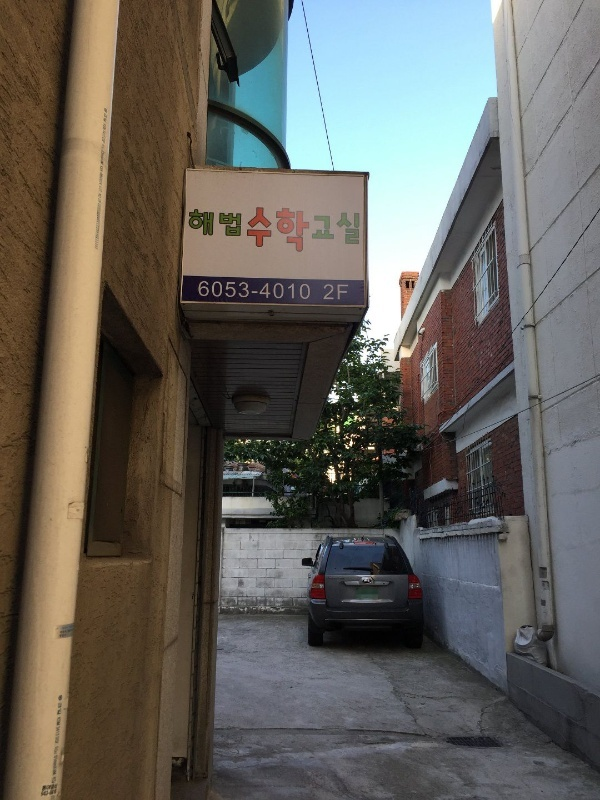text: (257, 206, 272, 254), (273, 206, 288, 254), (289, 206, 304, 254), (321, 211, 336, 247), (337, 211, 352, 247), (193, 208, 208, 238), (209, 208, 224, 238), (225, 208, 240, 238), (247, 206, 256, 254), (209, 279, 224, 299), (225, 279, 240, 299), (305, 206, 311, 254), (273, 281, 288, 299), (289, 281, 304, 299), (323, 283, 336, 303), (313, 211, 320, 247), (353, 211, 360, 247), (337, 283, 349, 303), (199, 279, 208, 299), (262, 281, 272, 299), (241, 279, 249, 299), (188, 208, 192, 238), (305, 281, 311, 299), (241, 208, 242, 238), (252, 291, 256, 294), (257, 291, 258, 294)
